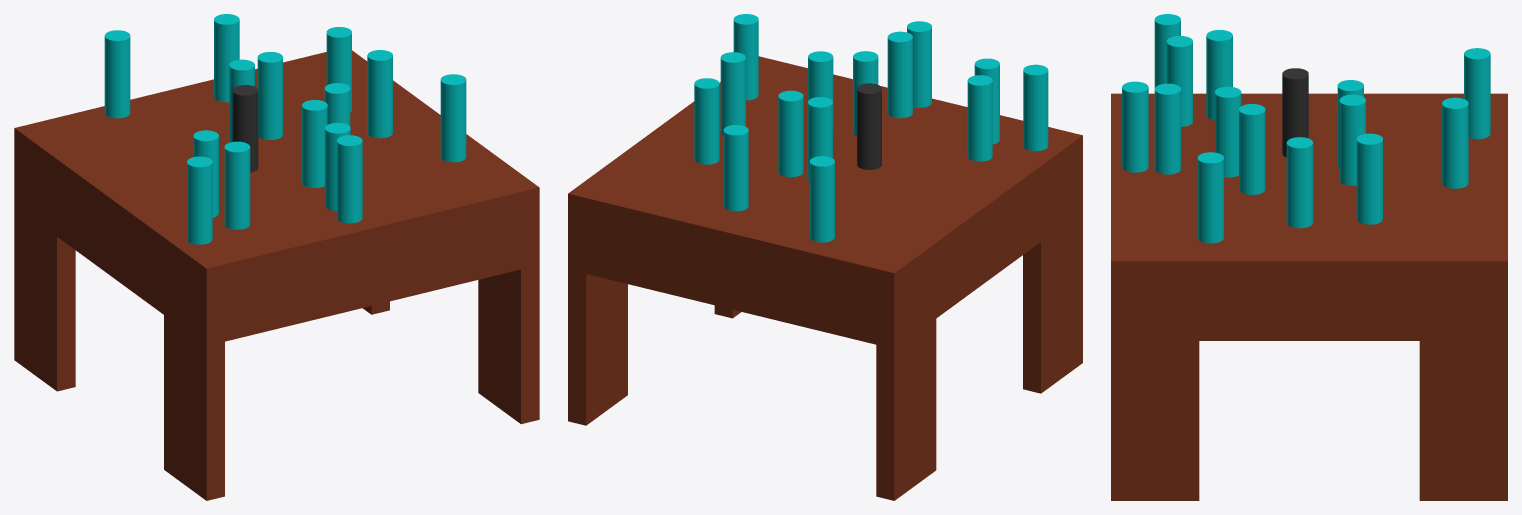
Rendered from can_world_15_cans.dae.
3 views of the same model, side by side, from view 1: azimuth 30°, elevation 25°; view 2: azimuth 150°, elevation 25°; view 3: azimuth 270°, elevation 25° (orthographic). The views are drawn at different scales.
Parts seen in each view (by area): view 1: base (×19); view 2: base (×19); view 3: base (×18).
Part boxes in pixels (x1,y1,x2,y2): base (×19): [14, 14, 539, 500]; base (×19): [568, 14, 1082, 500]; base (×18): [1111, 14, 1507, 500].
Bounding box in the file's own units: 0.9 × 0.9 × 0.811.
